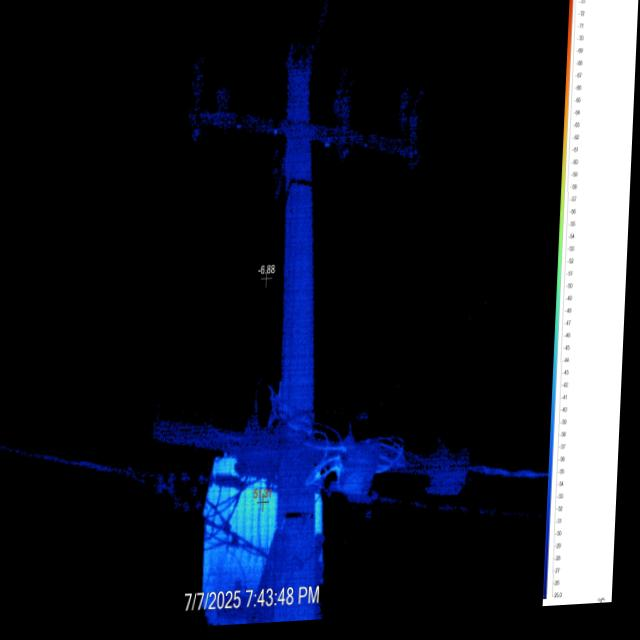Normal: (184, 442, 335, 621)
